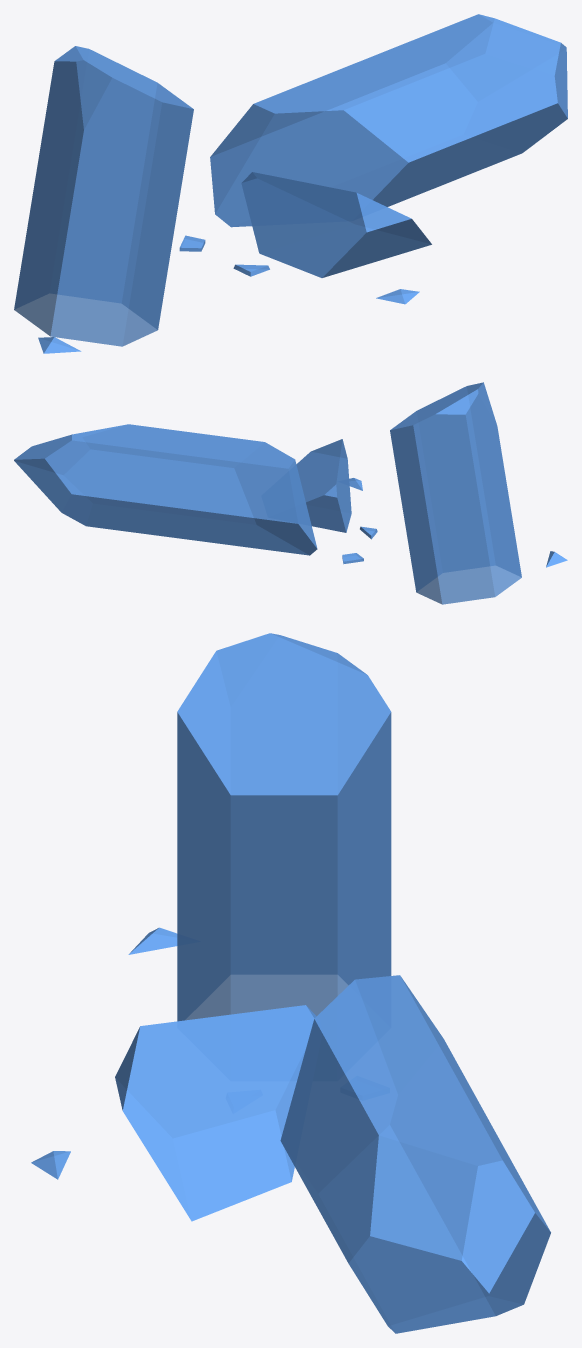
Rendered from Crystal_crk_m_02.fbx.
The picture shows the model from 3 angles, top to bottom: view 1: azimuth 30°, elevation 25°; view 2: azimuth 150°, elevation 25°; view 3: azimuth 270°, elevation 25°; orthographic projection. The views are drawn at different scales.
Visible parts, largest first — view 1: Crystal_crk_m_02; view 2: Crystal_crk_m_02; view 3: Crystal_crk_m_02.
Boxes of the visible parts, box(x1,y1,x2,y2) form: Crystal_crk_m_02: box(14, 14, 567, 353); Crystal_crk_m_02: box(14, 382, 567, 604); Crystal_crk_m_02: box(31, 633, 550, 1333).
Size of the model in its own units: 221 by 91.03 by 106.
